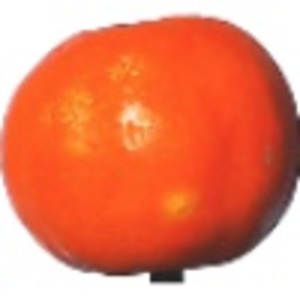tangerina: (2, 12, 300, 283)
